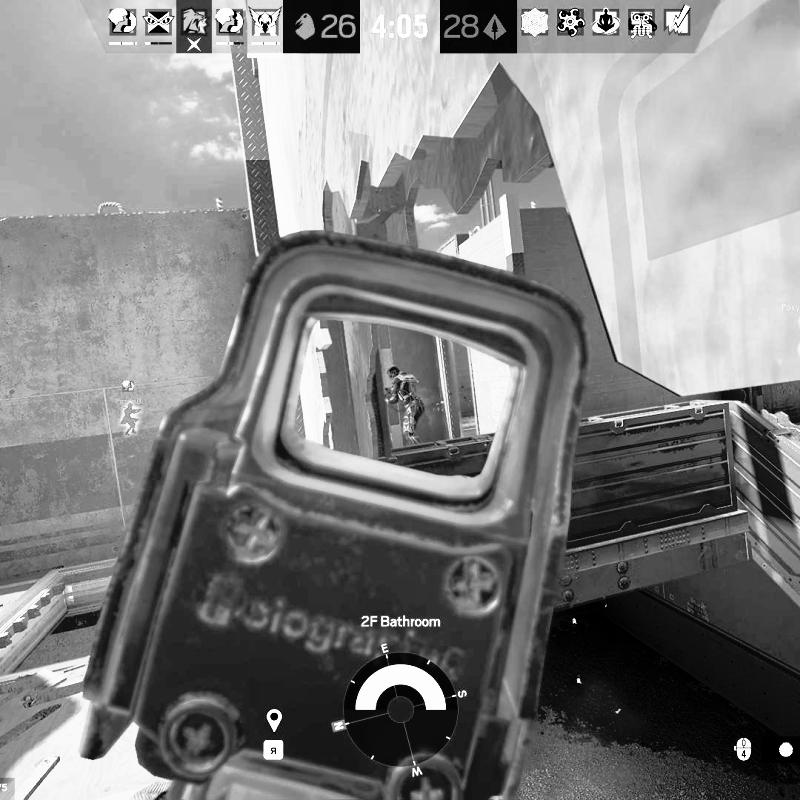Character: (382, 364, 426, 447)
Friend_label: (114, 379, 142, 404)
Head: (386, 365, 399, 381)
